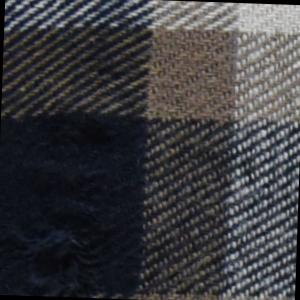Damage: (1, 144, 126, 300)
